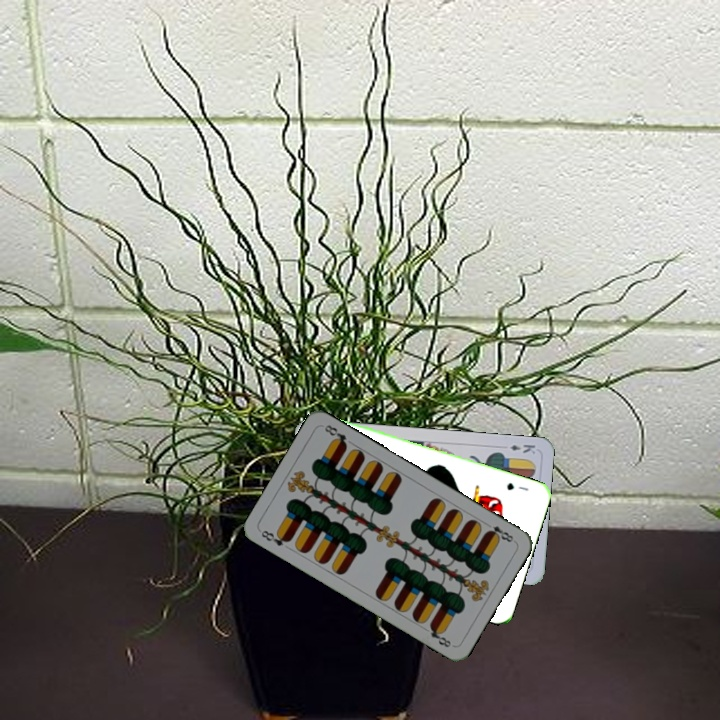E8: (481, 518, 516, 545), (257, 526, 293, 549)
EK: (506, 440, 538, 456)
GU: (503, 478, 531, 493)
